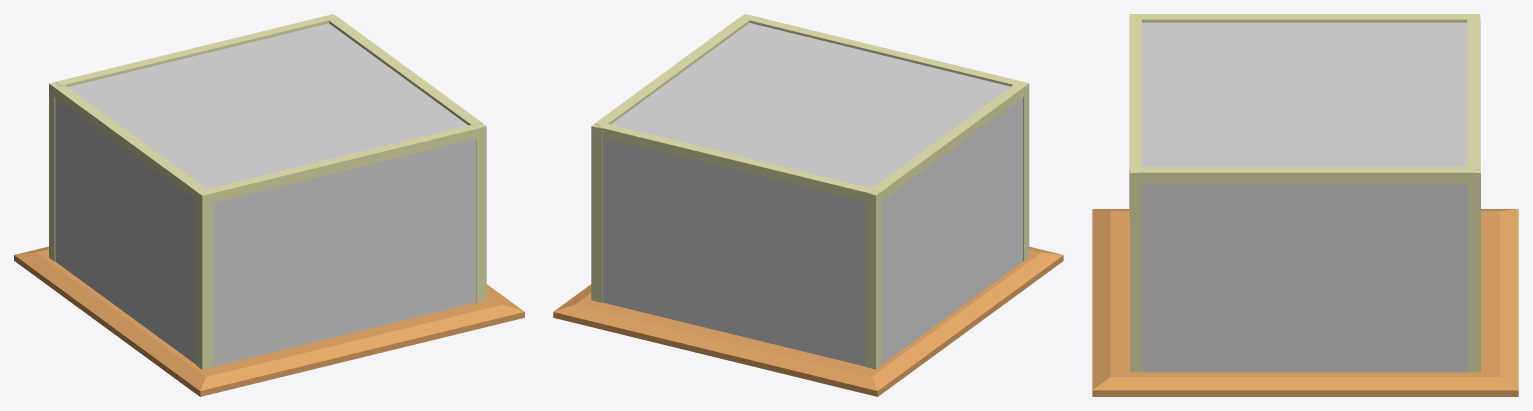
Rendered from greenHouse.glb.
3 views of the same model, side by side, from view 1: azimuth 30°, elevation 25°; view 2: azimuth 150°, elevation 25°; view 3: azimuth 270°, elevation 25° (orthographic). The views are drawn at different scales.
Visible parts, largest first — view 1: Cube.002, Cube.003, Cube.001, Cube, Cube.010, Cube.004, Cube.008, Cube.011, Cube.009, Cube.005, Cube.006; view 2: Cube.002, Cube.003, Cube.001, Cube, Cube.011, Cube.006, Cube.008, Cube.010, Cube.007, Cube.009, Cube.004; view 3: Cube.001, Cube.003, Cube, Cube.009, Cube.008, Cube.005, Cube.007, Cube.011, Cube.010.
Part boxes in pixels (x1,y1,x2,y2): Cube.002: [212, 138, 475, 366]; Cube.003: [68, 23, 467, 188]; Cube.001: [55, 98, 196, 364]; Cube: [14, 246, 524, 396]; Cube.010: [207, 125, 480, 202]; Cube.004: [196, 189, 212, 369]; Cube.008: [54, 85, 206, 200]; Cube.011: [55, 15, 329, 86]; Cube.009: [326, 16, 482, 125]; Cube.005: [473, 123, 486, 302]; Cube.006: [49, 82, 60, 261]; Cube.002: [602, 138, 865, 366]; Cube.003: [611, 23, 1010, 188]; Cube.001: [881, 98, 1022, 364]; Cube: [553, 246, 1063, 396]; Cube.011: [598, 123, 875, 201]; Cube.006: [865, 190, 881, 369]; Cube.008: [872, 85, 1023, 200]; Cube.010: [749, 15, 1018, 86]; Cube.007: [591, 124, 602, 302]; Cube.009: [594, 16, 750, 125]; Cube.004: [1014, 80, 1029, 261]; Cube.001: [1142, 183, 1467, 372]; Cube.003: [1142, 22, 1467, 166]; Cube: [1092, 209, 1518, 396]; Cube.009: [1138, 166, 1474, 183]; Cube.008: [1142, 14, 1467, 22]; Cube.005: [1130, 167, 1142, 372]; Cube.007: [1468, 167, 1480, 372]; Cube.011: [1467, 17, 1479, 169]; Cube.010: [1129, 19, 1141, 180].
Bounding box in the file's own units: 2.42 × 1.32 × 2.4.
